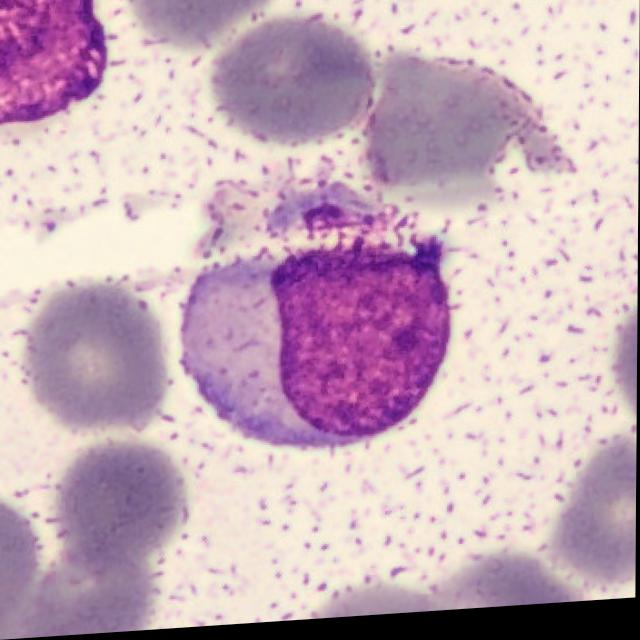Restos celulares: (182, 198, 449, 450)
